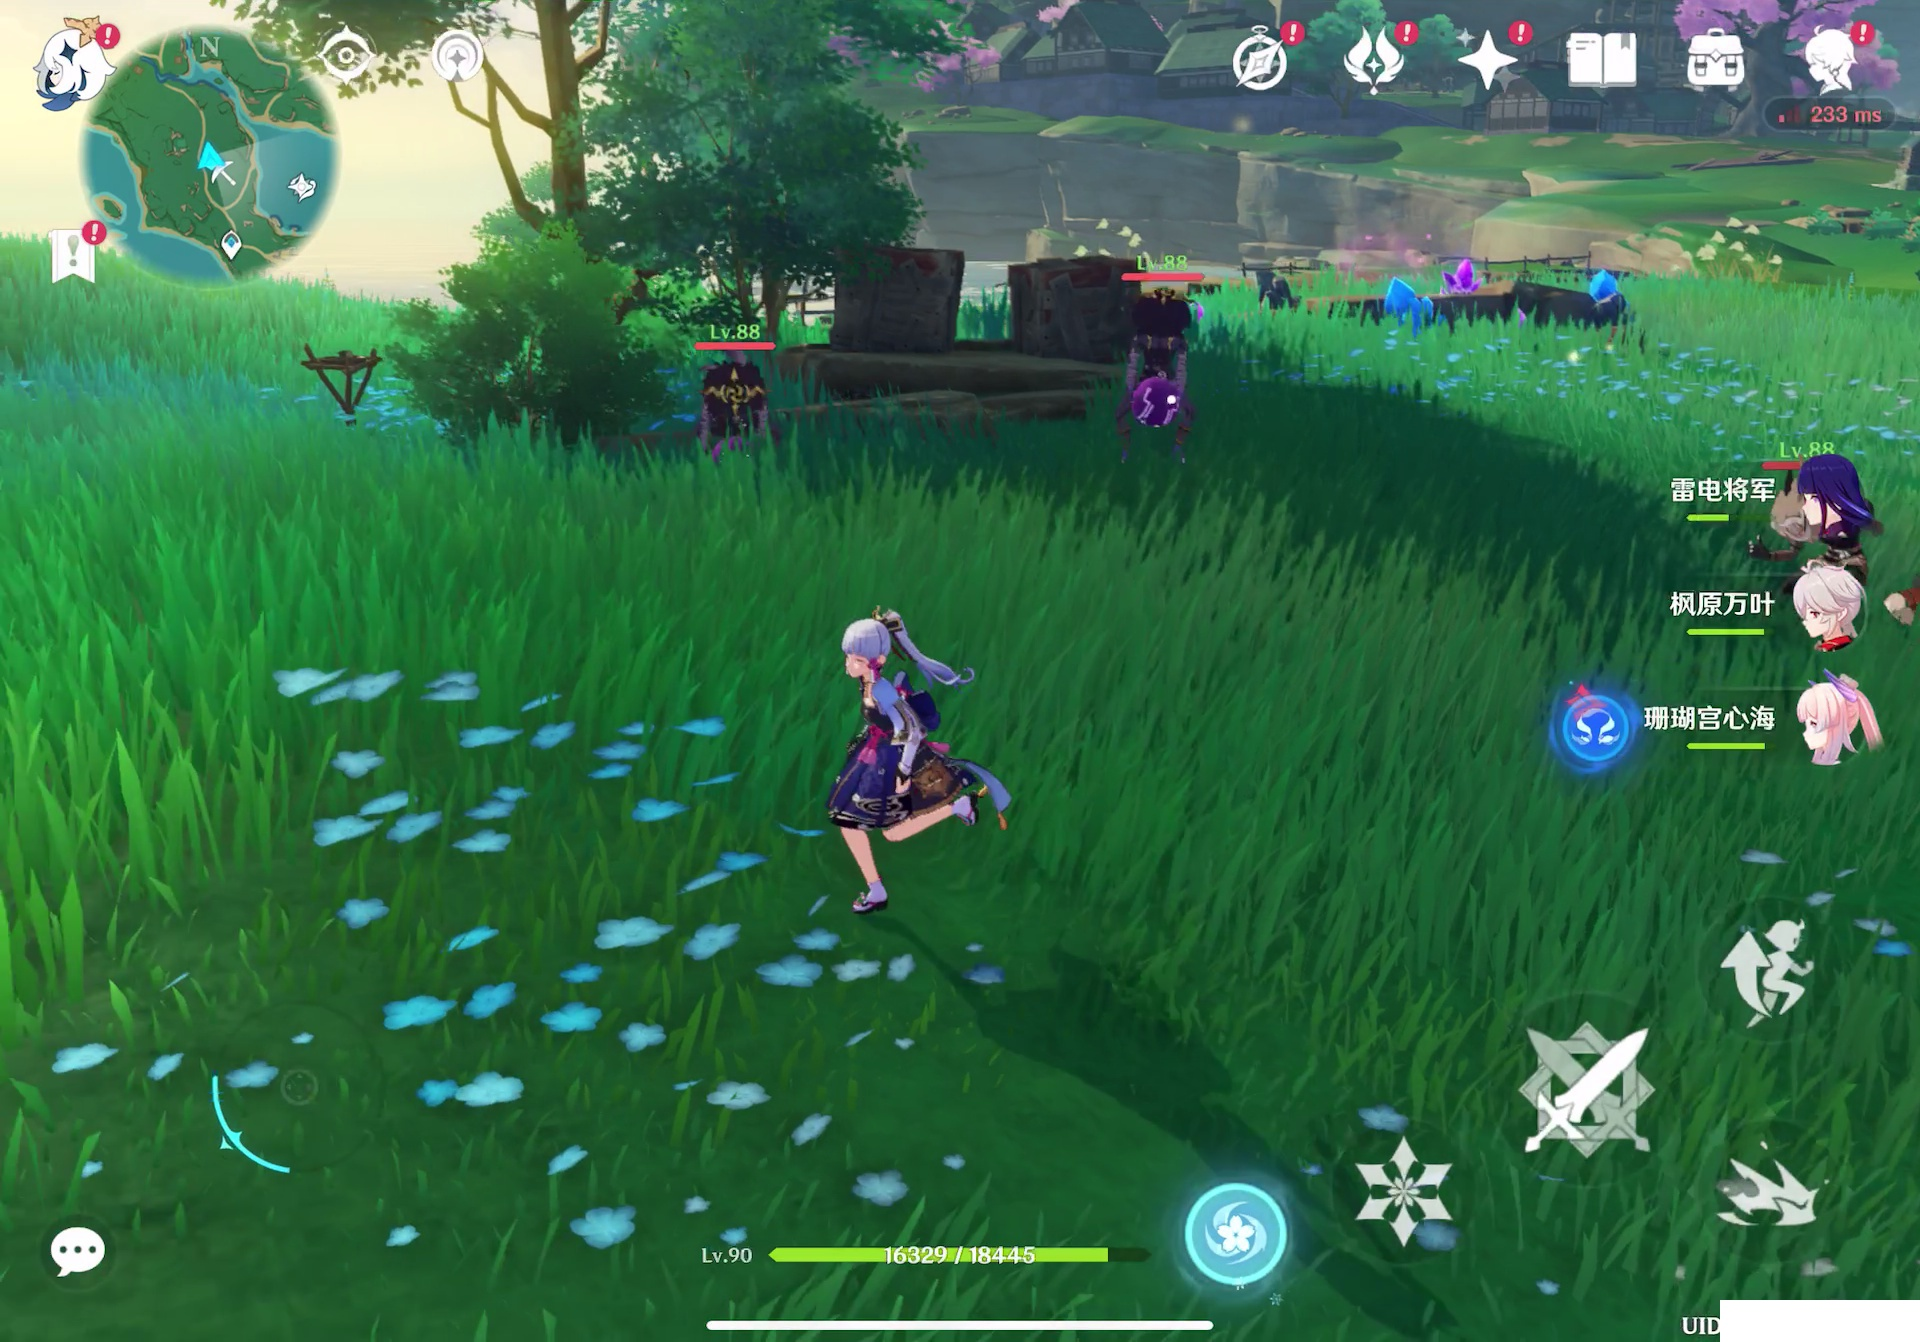丘丘人: (1115, 296, 1226, 481), (687, 354, 794, 476)
神里绫龟: (821, 616, 1042, 899)
